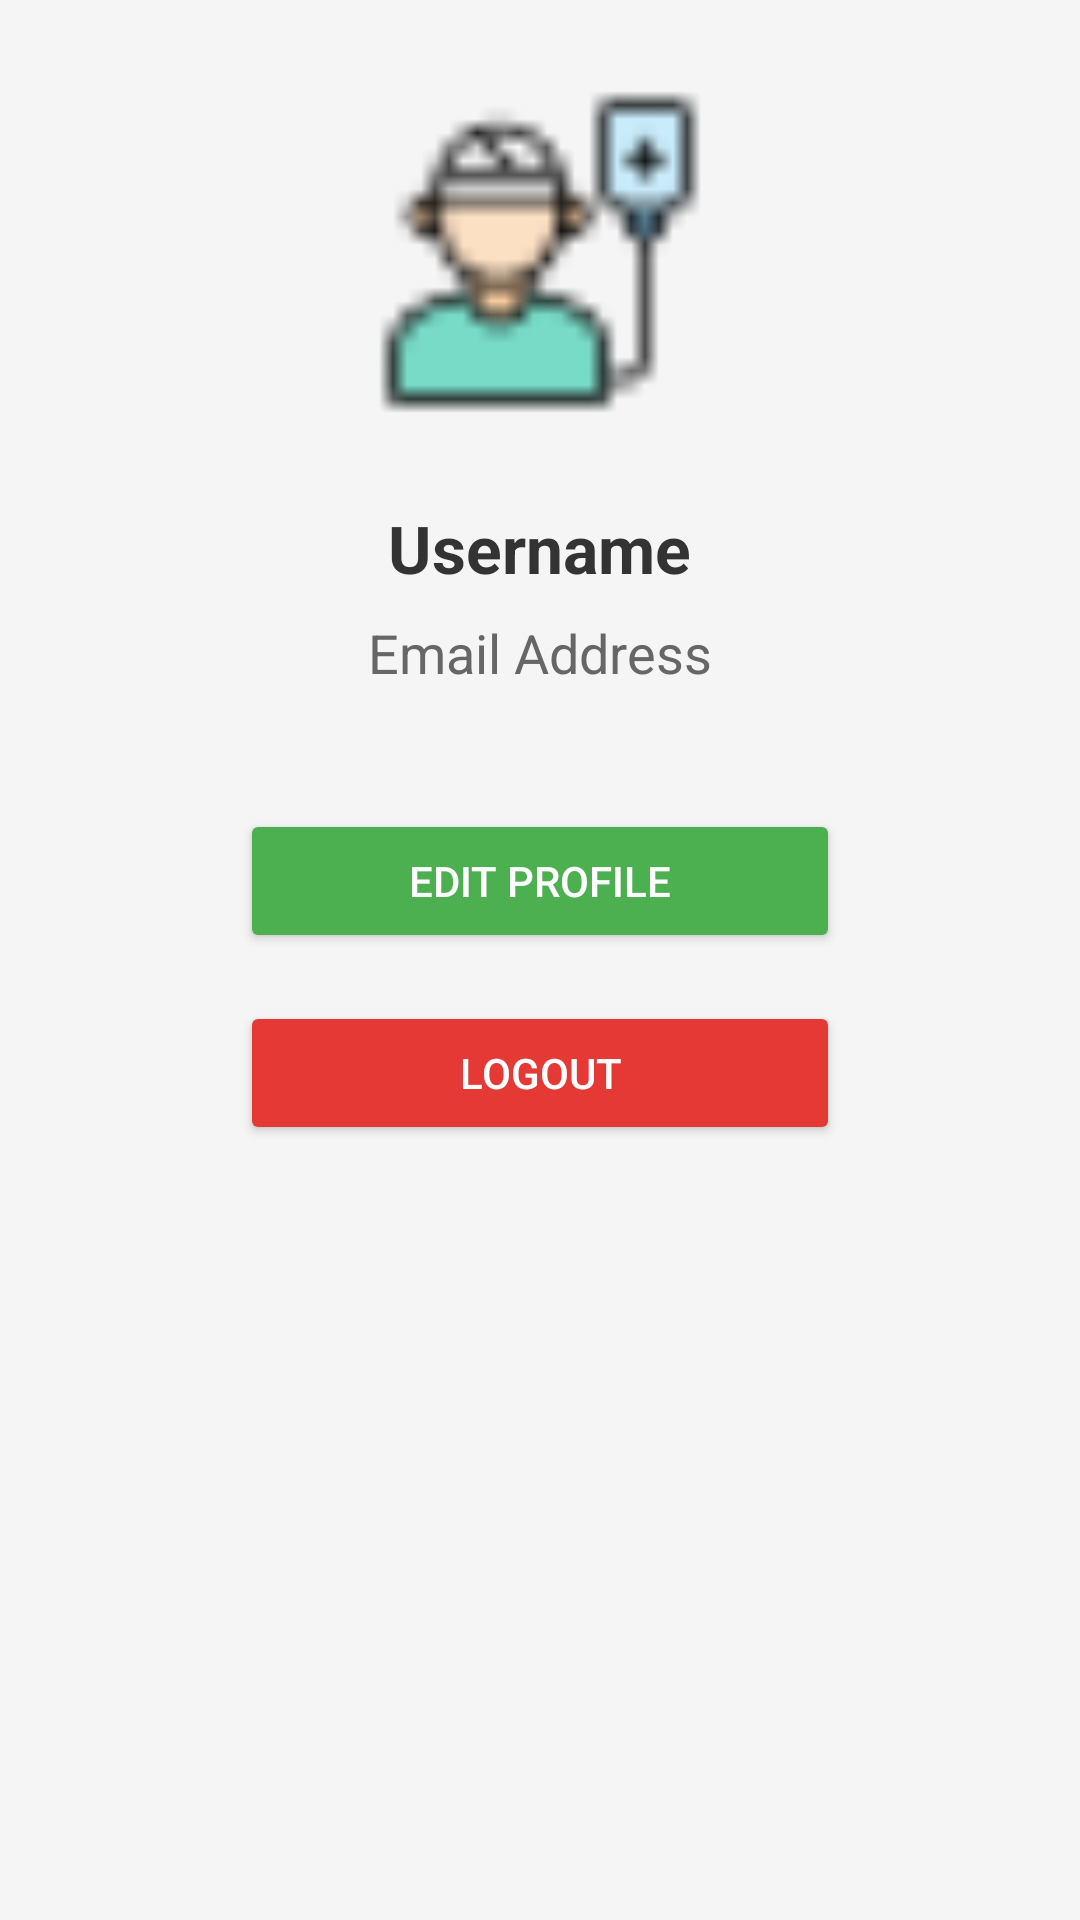

Icons on this 1080w x 1920h Android screen, each with its box as (x1, y1, x2, y2):
صورة الملف الشخصي: (381, 93, 699, 411)
